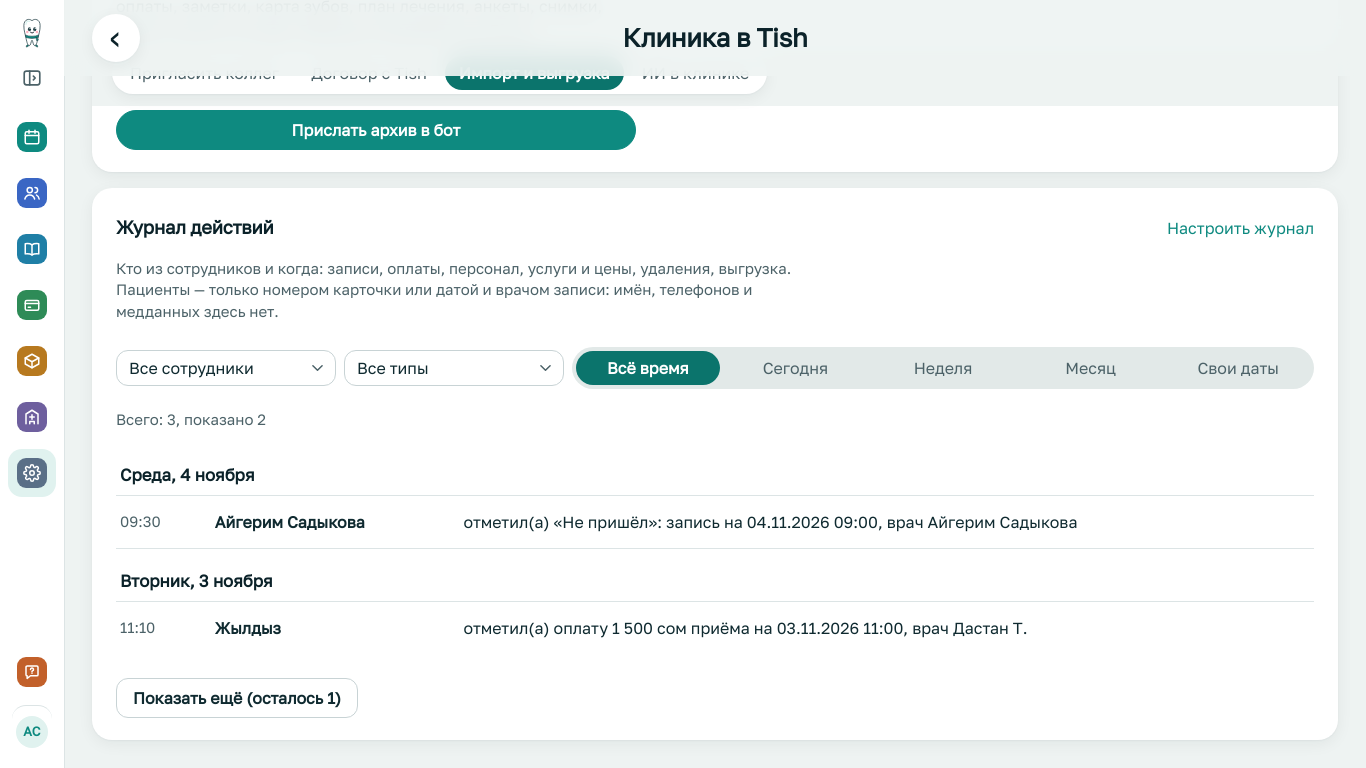
Scenario: журнал: фильтры уходят на сервер, «Показать ещё» — по курсору, пусто по фильтру
Later steps or results of the test are not shown.
(page scrolled)
Expected: the text "отметил(а) «Не пришёл»" is shown, top-left (464, 512), bottom-right (1078, 532)
Expected: the text "Всего: 3, показано 2" is shown, top-left (116, 410), bottom-right (266, 428)
Click the button "Показать ещё (осталось 1)". click: (237,698)
box: top-left (116, 678), bottom-right (358, 718)
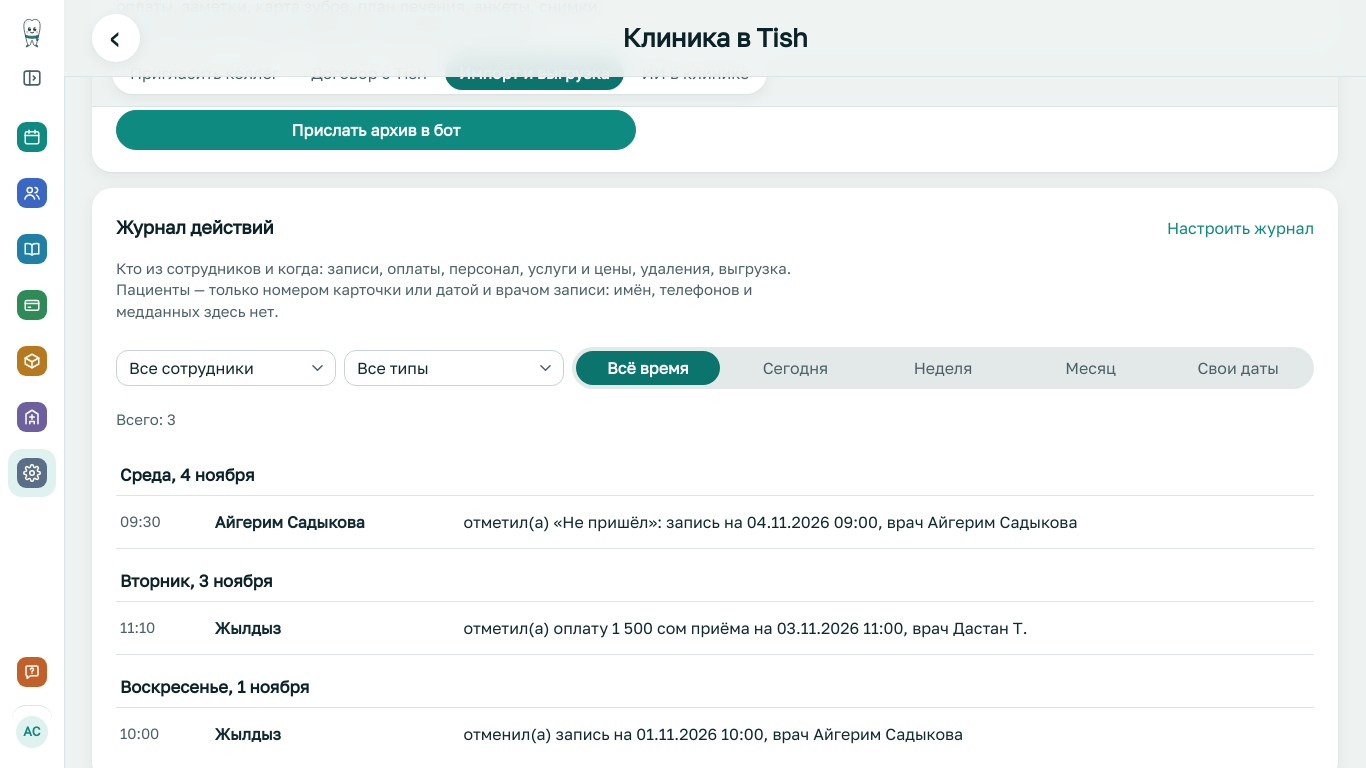
Expected: the text "отменил(а) запись на 01.11.2026 10:00, врач Айгерим Садыкова" is shown, top-left (448, 708), bottom-right (1314, 760)
Expected: the button "Показать ещё" is gone
Click the dropdown labelled "сотрудник". click: (226,368)
box: top-left (116, 350), bottom-right (336, 386)
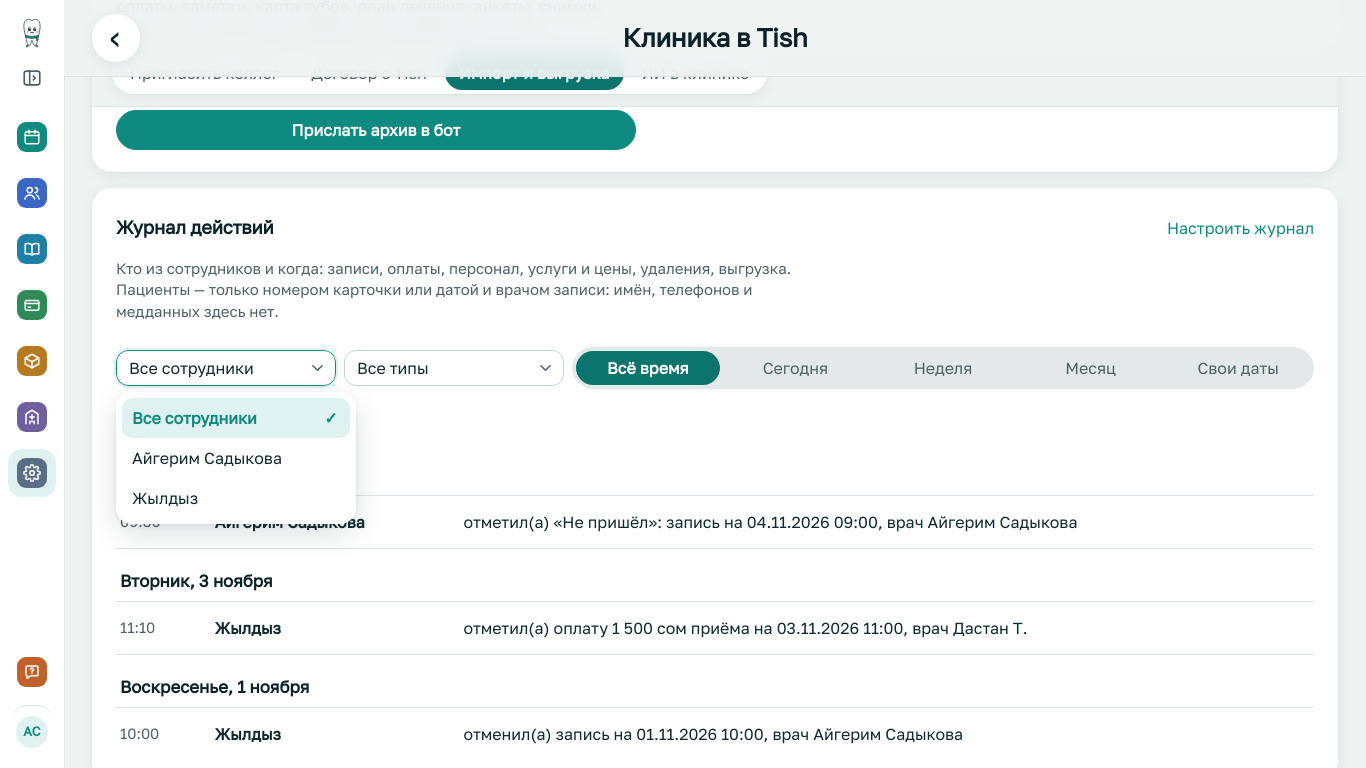
Click the option "Жылдыз". click: (165,498)
box: top-left (132, 488), bottom-right (198, 508)
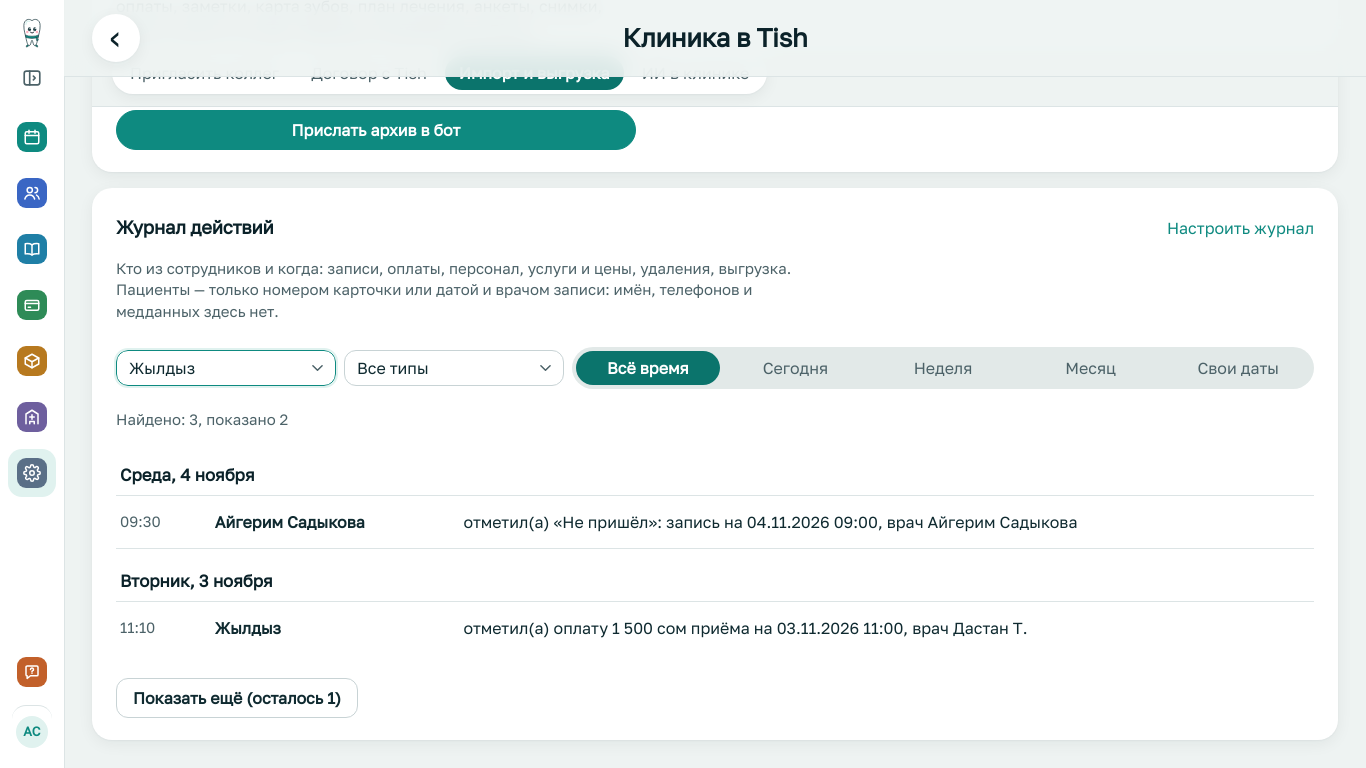
Click the button "Сегодня". click: (795,368)
box: top-left (724, 351), bottom-right (867, 385)
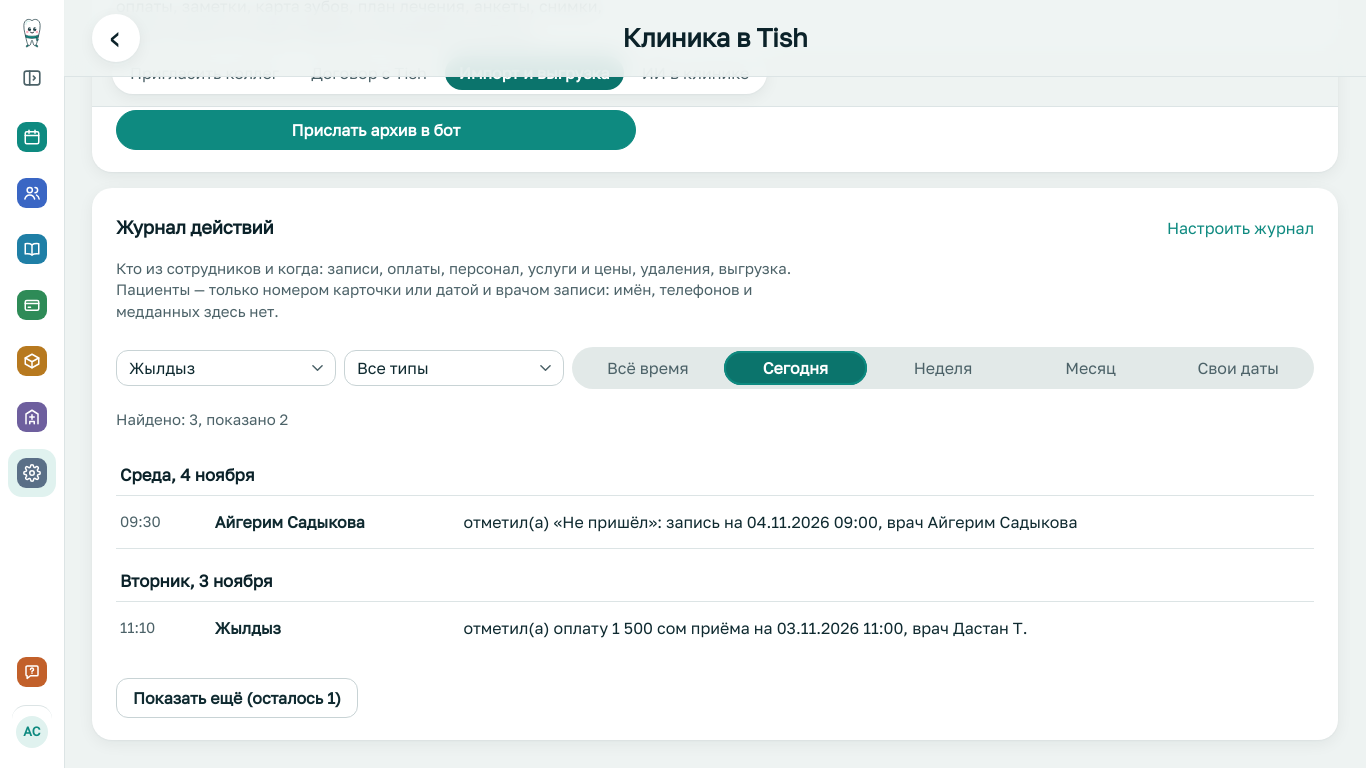
Click the dropdown labelled "тип". click: (454,368)
box: top-left (344, 350), bottom-right (564, 386)
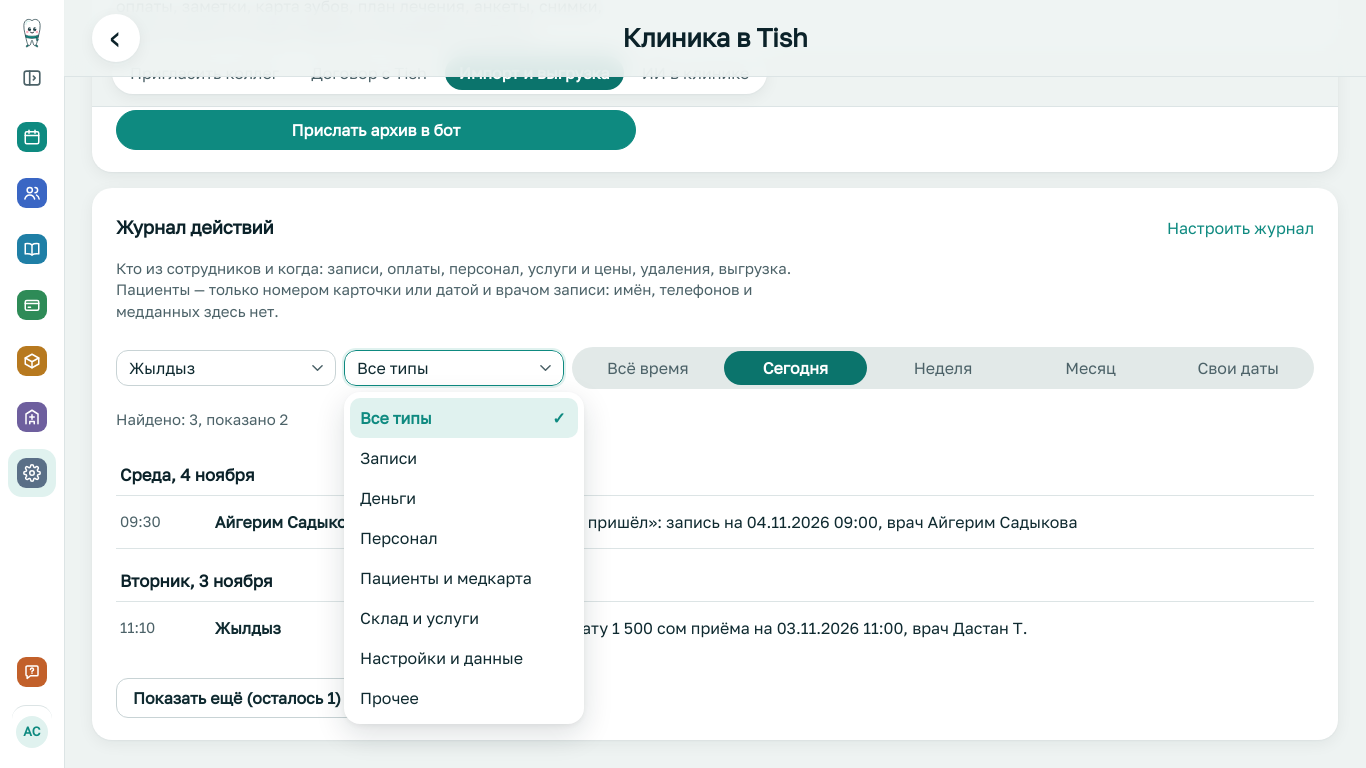
Click the option "Деньги". click: (388,498)
box: top-left (360, 488), bottom-right (416, 508)
(page scrolled)
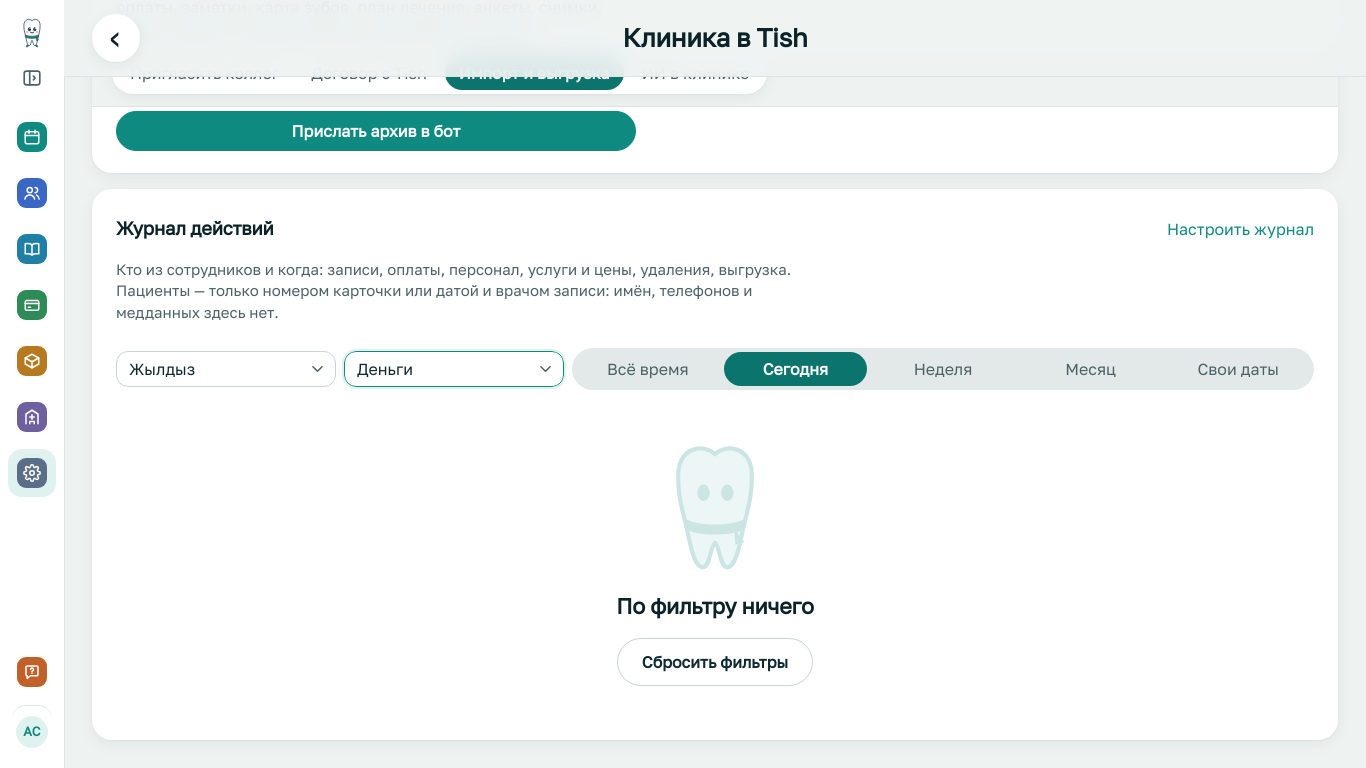
Expected: the text "По фильтру ничего" is shown, top-left (616, 590), bottom-right (814, 622)
